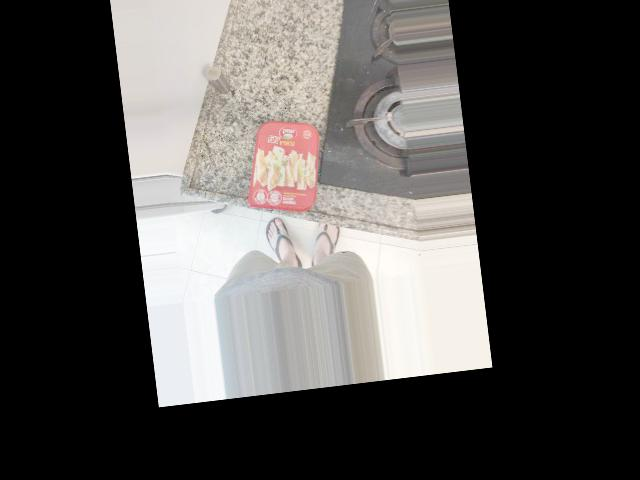cheese: (240, 15, 333, 138)
